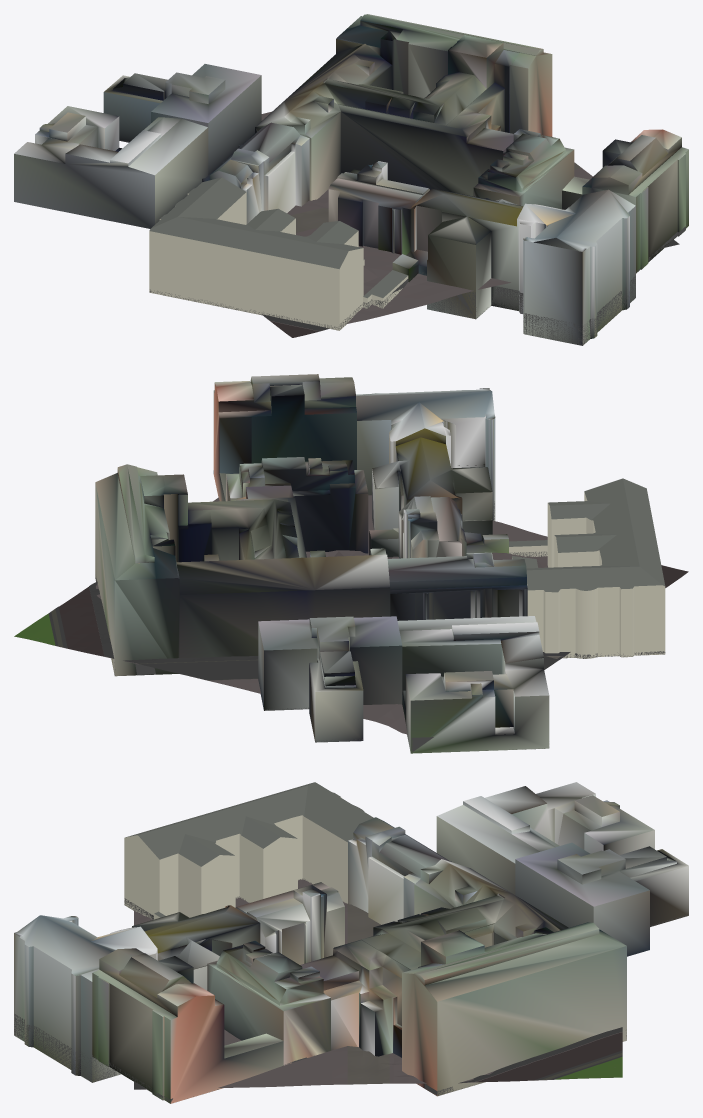
3 views of the same model, one above another, from view 1: azimuth 30°, elevation 25°; view 2: azimuth 150°, elevation 25°; view 3: azimuth 270°, elevation 25° (orthographic). The views are drawn at different scales.
Parts seen in each view (by area): view 1: c_m07_p03; view 2: c_m07_p03; view 3: c_m07_p03.
Part boxes in pixels (left/top/right/bottom): c_m07_p03: left=14, top=14, right=688, bottom=345; c_m07_p03: left=14, top=374, right=688, bottom=753; c_m07_p03: left=14, top=782, right=688, bottom=1103.
Size of the model in its own units: 162 by 42.32 by 177.
